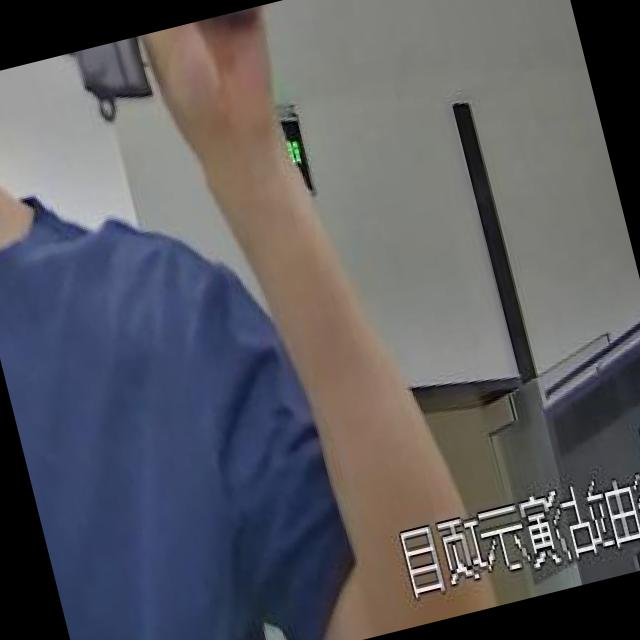Guns: (13, 0, 318, 169)
